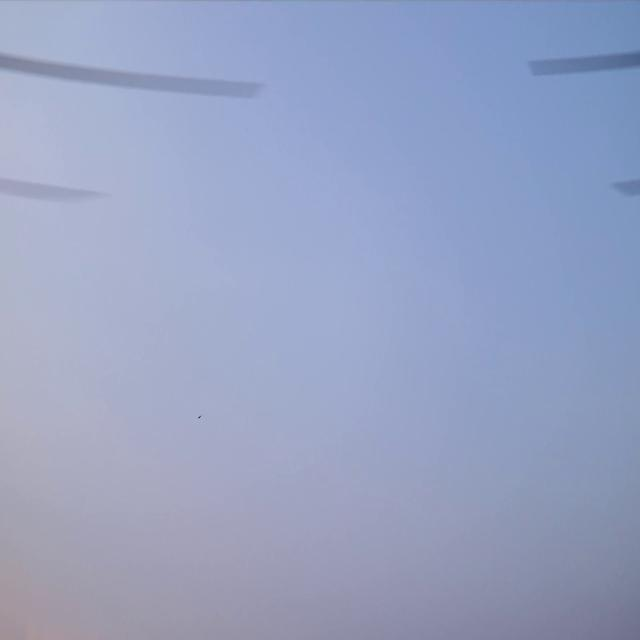UAV: (198, 414, 202, 419)
